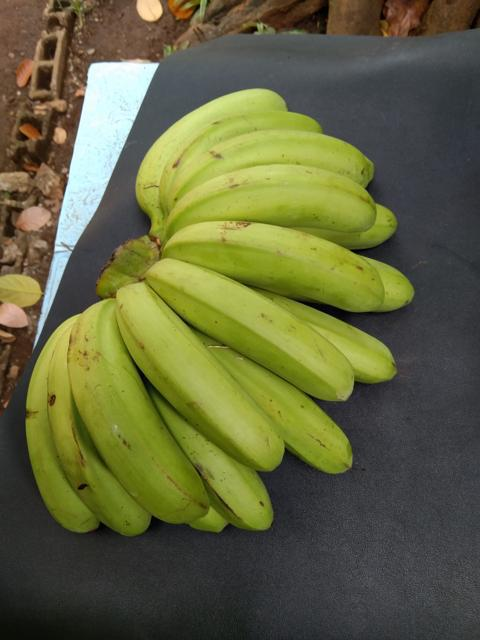freshunripe: (110, 284, 289, 475), (145, 254, 364, 397), (295, 297, 405, 388)
unripe: (65, 299, 221, 521), (157, 213, 398, 317), (43, 332, 162, 536), (126, 77, 283, 209), (165, 158, 380, 231), (178, 123, 387, 193), (246, 377, 362, 483), (190, 428, 280, 533)
